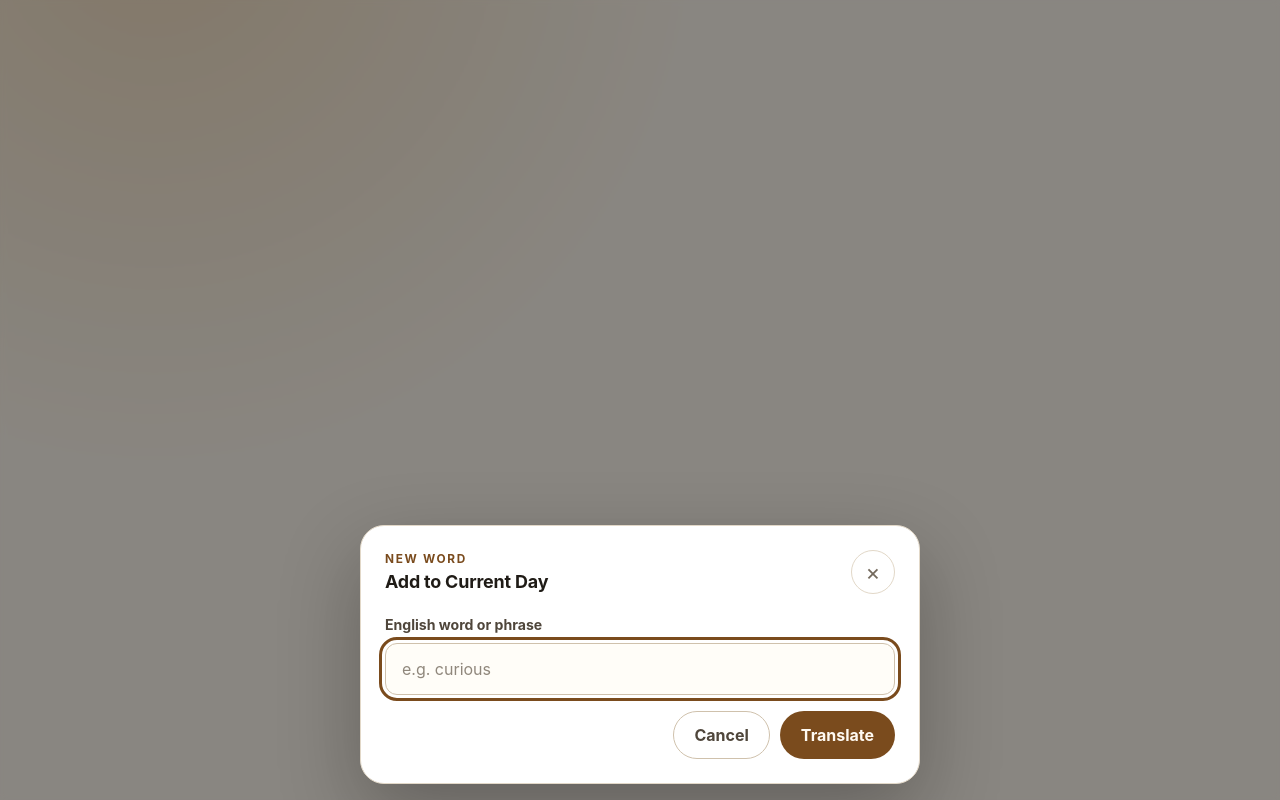
AddCardDialog › translates, shows examples, and saves a card
This screenshot has width=1280, height=800.
Later steps or results of the test are not shown.
Type "curious" into the field labelled "English word or phrase" at {"x": 640, "y": 669}, box [385,643,895,695]
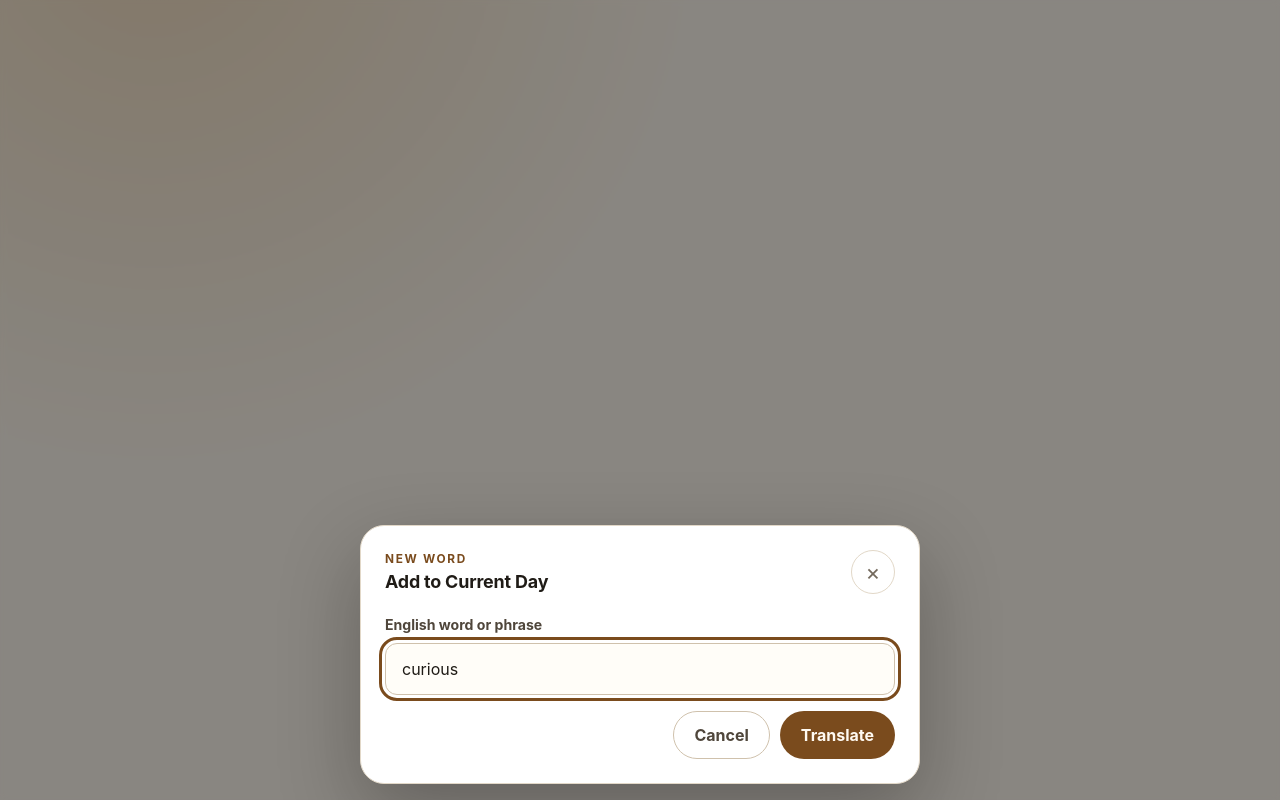
Click the button "Translate" at {"x": 837, "y": 735}, box [780,711,895,759]
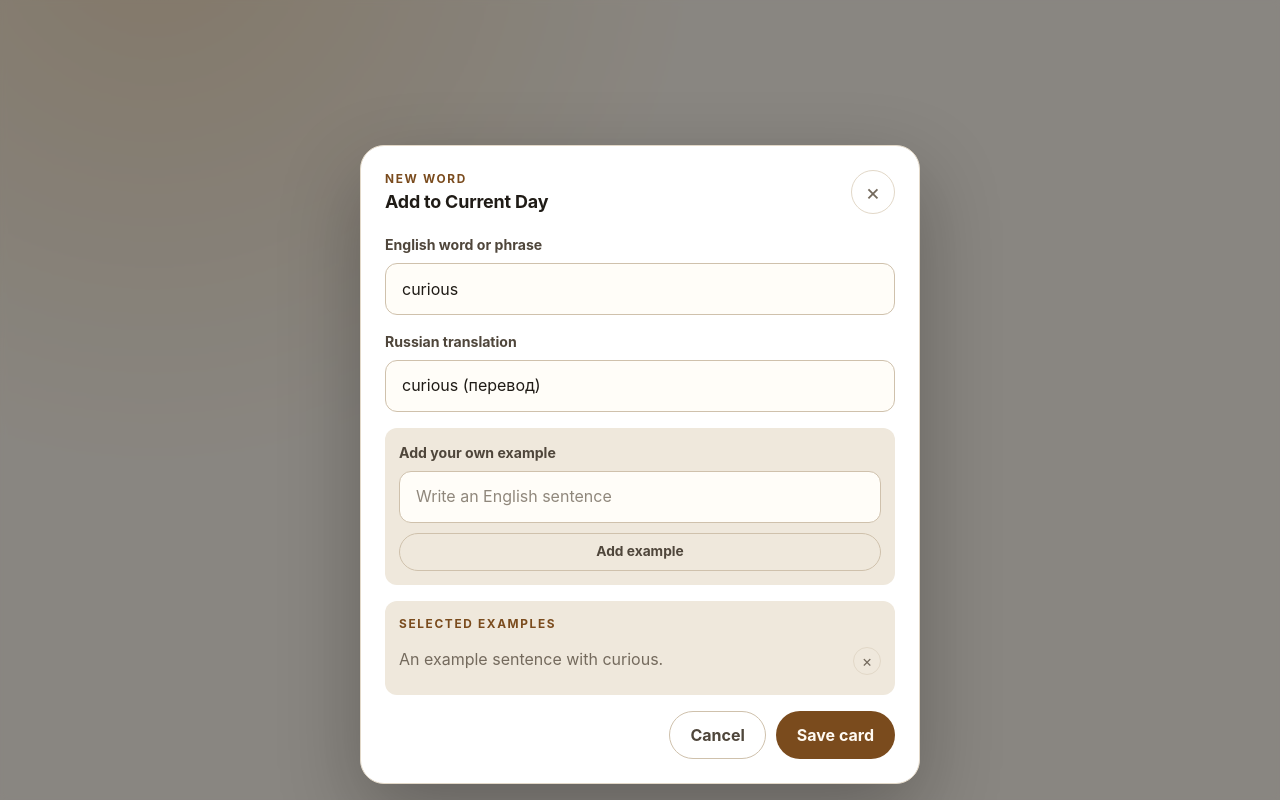
Expected: the field labelled "Russian translation" holds "curious (перевод)", [385,360,895,412]
Expected: the text "An example sentence with curious." is shown, [399,647,663,672]
